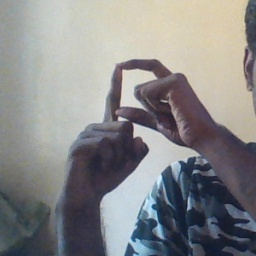D: (80, 53, 199, 152)
